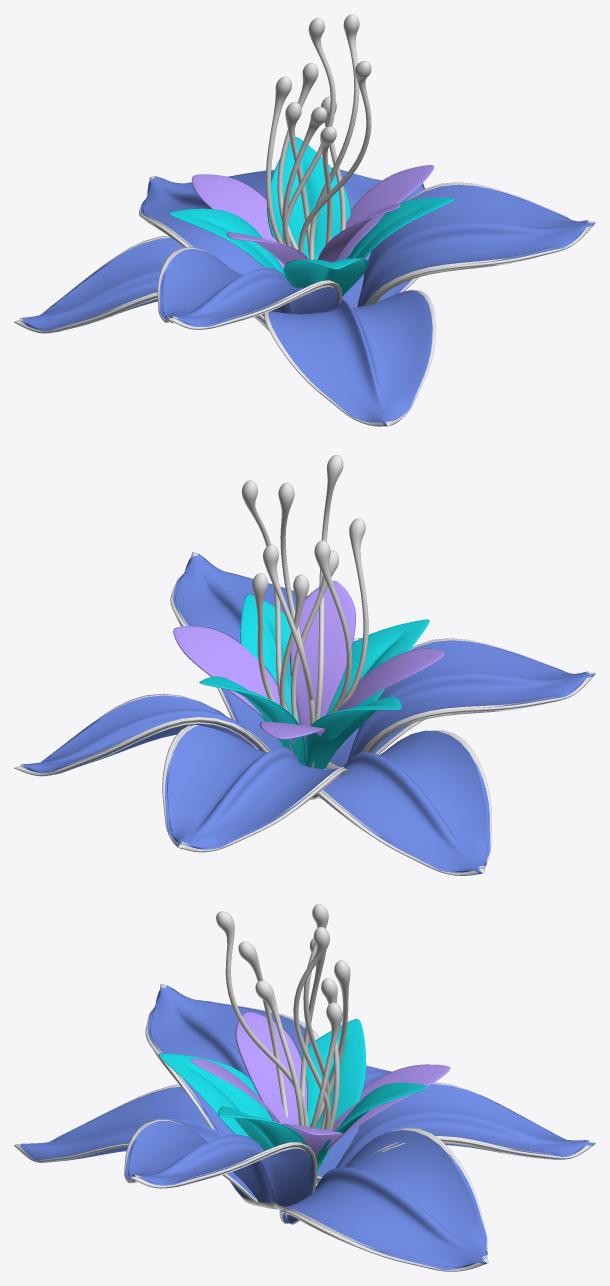
Rendered from flower_lotus.glb.
3 views of the same model, one above another, from view 1: azimuth 30°, elevation 25°; view 2: azimuth 150°, elevation 25°; view 3: azimuth 270°, elevation 25° (orthographic).
Visible parts, largest first — view 1: Plane.005, Plane.004, Plane.006, Plane.007, Plane, Plane.001, Vert, Vert.001, Vert.002, Plane.002, Plane.011, Plane.009 (+5 smaller); view 2: Plane.007, Plane, Plane.006, Plane.003, Plane.004, Plane.012, Plane.011, Vert.001, Vert, Vert.002, Plane.009, Plane.008 (+5 smaller); view 3: Plane.003, Plane.004, Plane, Plane.006, Plane.005, Plane.013, Vert.001, Plane.009, Vert.002, Plane.008, Vert, Plane.002 (+5 smaller).
Part boxes in pixels (box(x1,y1,x2,y2)): Plane.005: box(264, 289, 436, 426); Plane.004: box(356, 182, 595, 307); Plane.006: box(157, 247, 342, 329); Plane.007: box(14, 235, 268, 333); Plane: box(139, 169, 274, 274); Plane.001: box(267, 137, 350, 259); Vert: box(265, 18, 335, 255); Vert.001: box(282, 61, 371, 260); Vert.002: box(277, 14, 359, 259); Plane.002: box(191, 174, 284, 268); Plane.011: box(336, 165, 434, 260); Plane.009: box(168, 208, 284, 275); Plane.007: box(310, 730, 491, 875); Plane: box(162, 724, 347, 852); Plane.006: box(347, 638, 595, 761); Plane.003: box(14, 693, 270, 776); Plane.004: box(170, 552, 308, 750); Plane.012: box(289, 581, 355, 725); Plane.011: box(173, 626, 289, 720); Vert.001: box(290, 455, 368, 722); Vert: box(278, 482, 351, 767); Vert.002: box(241, 480, 314, 726); Plane.009: box(305, 696, 401, 768); Plane.008: box(324, 619, 429, 768); Plane.003: box(279, 1128, 488, 1271); Plane.004: box(124, 1119, 317, 1209); Plane: box(335, 1082, 595, 1168); Plane.006: box(145, 984, 319, 1135); Plane.005: box(14, 1084, 258, 1204); Plane.013: box(235, 1011, 307, 1125); Vert.001: box(216, 911, 308, 1126); Plane.009: box(300, 1019, 366, 1176); Vert.002: box(293, 927, 350, 1146); Plane.008: box(158, 1053, 272, 1137); Vert: box(300, 904, 339, 1168); Plane.002: box(326, 1064, 450, 1152).
Size of the model in its own units: 6.19 by 4.09 by 7.1.
